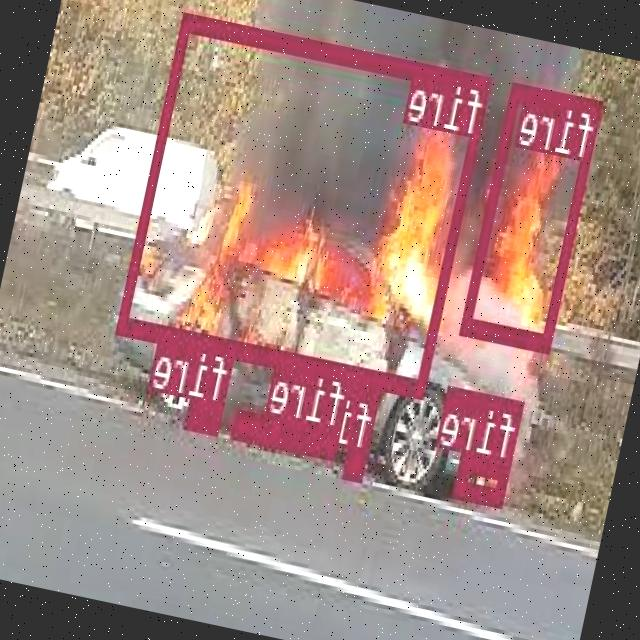fire: (119, 12, 494, 395), (462, 81, 604, 350), (233, 407, 342, 456), (455, 451, 513, 503), (187, 396, 225, 432), (344, 446, 370, 478)
